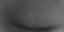RightEyeFatigue: (8, 12, 58, 32)
